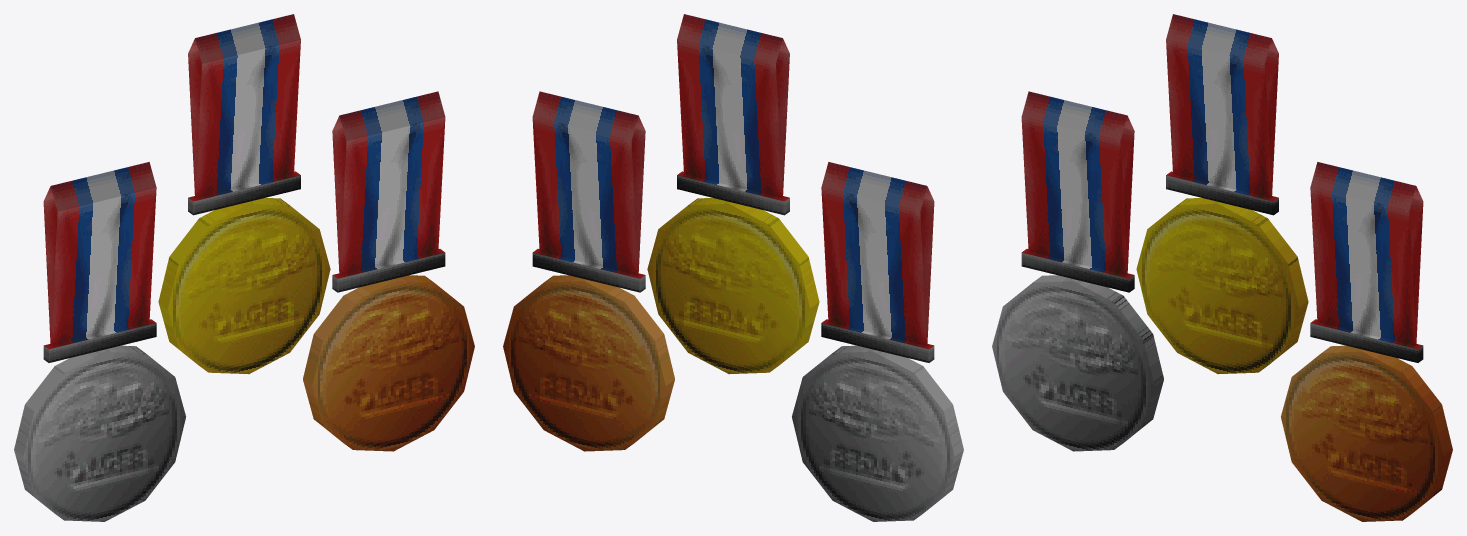
Rendered from ps2_save-icons_segaages2500seriesvol15-decatheletecollection.glb.
The picture shows the model from 3 angles, left to right: view 1: azimuth 30°, elevation 25°; view 2: azimuth 150°, elevation 25°; view 3: azimuth 330°, elevation 25°; orthographic projection.
Parts seen in each view (by area): view 1: icon.ico; view 2: icon.ico; view 3: icon.ico.
Boxes of the visible parts, bbox=[...] form: icon.ico: bbox=[14, 14, 474, 521]; icon.ico: bbox=[503, 14, 963, 521]; icon.ico: bbox=[992, 14, 1452, 521].
Size of the model in its own units: 3.56 by 3.44 by 0.1919.
1 material, 1 textured.
